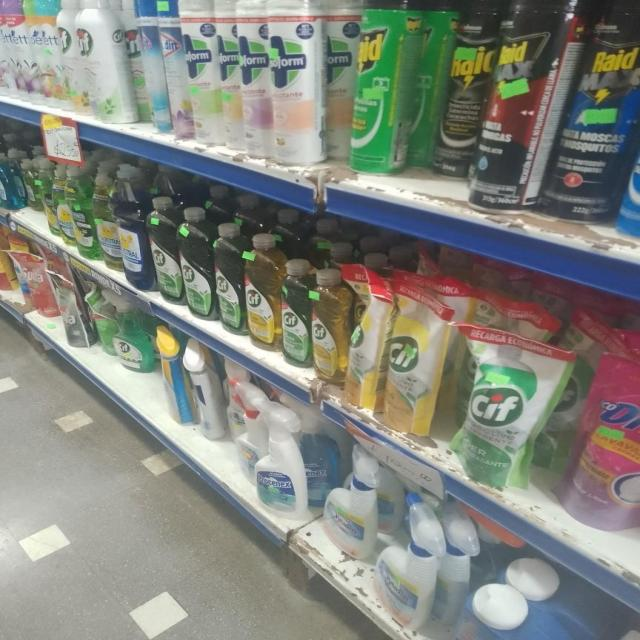cif_conc_bot_amarilla: (312, 267, 349, 386), (246, 232, 280, 352)
cif_conc_botella_verde: (180, 205, 213, 321), (281, 259, 310, 369), (216, 223, 243, 335)
cif_conc_sachet_amarillo: (384, 276, 440, 436)
cif_conc_sachet_verde: (460, 343, 540, 490)
magistral_con_azul: (118, 164, 147, 290), (626, 110, 640, 248), (0, 150, 16, 210)
